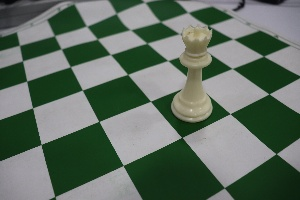white_queen: (170, 15, 217, 130)
